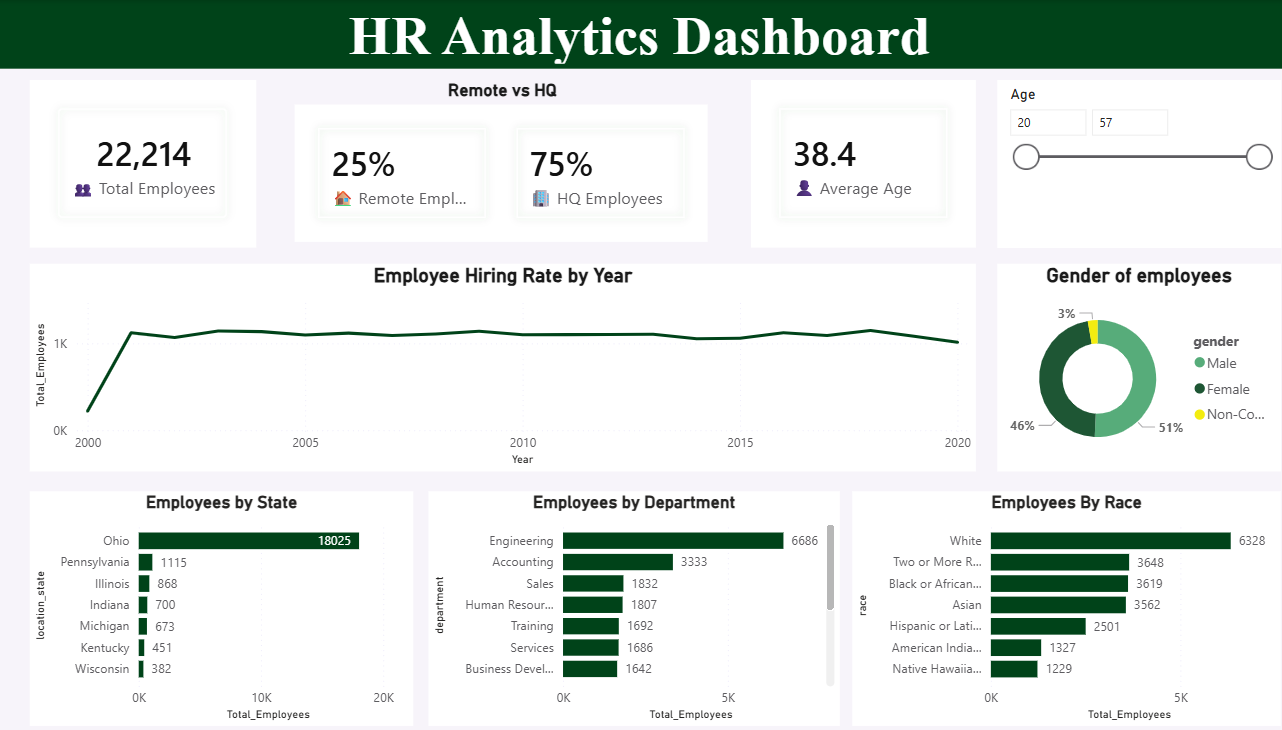

The page's visual inventory and layout, read from the dashboard file:
{"tool":"powerbi","page":{"name":"HR ","canvas":[1280,720],"ordinal":0},"visuals":[{"type":"cardVisual","title":"  Remote vs HQ","fields":{"Data":["HR.Remote %","HR.HQ%"]},"box":[287.4,78.3,415.8,163.9],"z":0},{"type":"cardVisual","fields":{"Data":["HR.summa total"]},"box":[33,78.4,221.4,163.6],"z":1000},{"type":"cardVisual","title":"Years","fields":{"Data":["HR.Average_Age"]},"box":[738.6,78.3,220.1,163.9],"z":2000},{"type":"lineChart","title":"Employee Hiring Rate by Year","fields":{"Category":["HR.hire_date.Variation.Date Hierarchy.Year"],"Y":["HR.Total_Employees"]},"box":[32.9,258.6,925.7,202.9],"z":3000},{"type":"donutChart","title":"Gender of employees","fields":{"Category":["HR.gender"],"Y":["CountNonNull(HR.id)"]},"box":[979.1,258.5,277.8,203.5],"z":4000},{"type":"clusteredBarChart","title":"Employees by State","fields":{"Category":["HR.location_state"],"Y":["HR.Total_Employees"]},"box":[33,480.6,375.4,229.9],"z":5000},{"type":"clusteredBarChart","title":"Employees  by Department","fields":{"Category":["HR.department"],"Y":["HR.Total_Employees"]},"box":[423.1,480.6,402.3,229.9],"z":6000},{"type":"clusteredBarChart","title":"Employees By Race","fields":{"Category":["HR.race"],"Y":["HR.Total_Employees"]},"box":[837.6,480.6,419.4,229.9],"z":7000},{"type":"textbox","box":[0,0,1280.3,67.3],"z":8000},{"type":"slicer","fields":{"Values":["HR.Age"]},"box":[979.5,78.3,277.6,163.9],"z":9000},{"type":"actionButton","title":"Insights","box":[1048,14.7,100.3,19.6],"z":9001}]}

Visuals, with their boxes in screenshot pixels (x1, y1, x2, y2), scaled from the page's 1280x720 canvas onto the 1282x730 screenshot:
"  Remote vs HQ" cardVisual: bbox(288, 79, 704, 246)
cardVisual - HR.summa total: bbox(33, 79, 255, 245)
"Years" cardVisual: bbox(740, 79, 960, 246)
"Employee Hiring Rate by Year" lineChart: bbox(33, 262, 960, 468)
"Gender of employees" donutChart: bbox(981, 262, 1259, 468)
"Employees by State" clusteredBarChart: bbox(33, 487, 409, 720)
"Employees  by Department" clusteredBarChart: bbox(424, 487, 827, 720)
"Employees By Race" clusteredBarChart: bbox(839, 487, 1259, 720)
textbox: bbox(0, 0, 1281, 68)
slicer - HR.Age: bbox(981, 79, 1259, 246)
"Insights" actionButton: bbox(1050, 15, 1150, 35)
